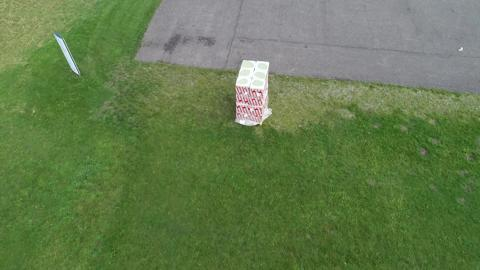RockwoolPallet: (236, 57, 270, 122)
